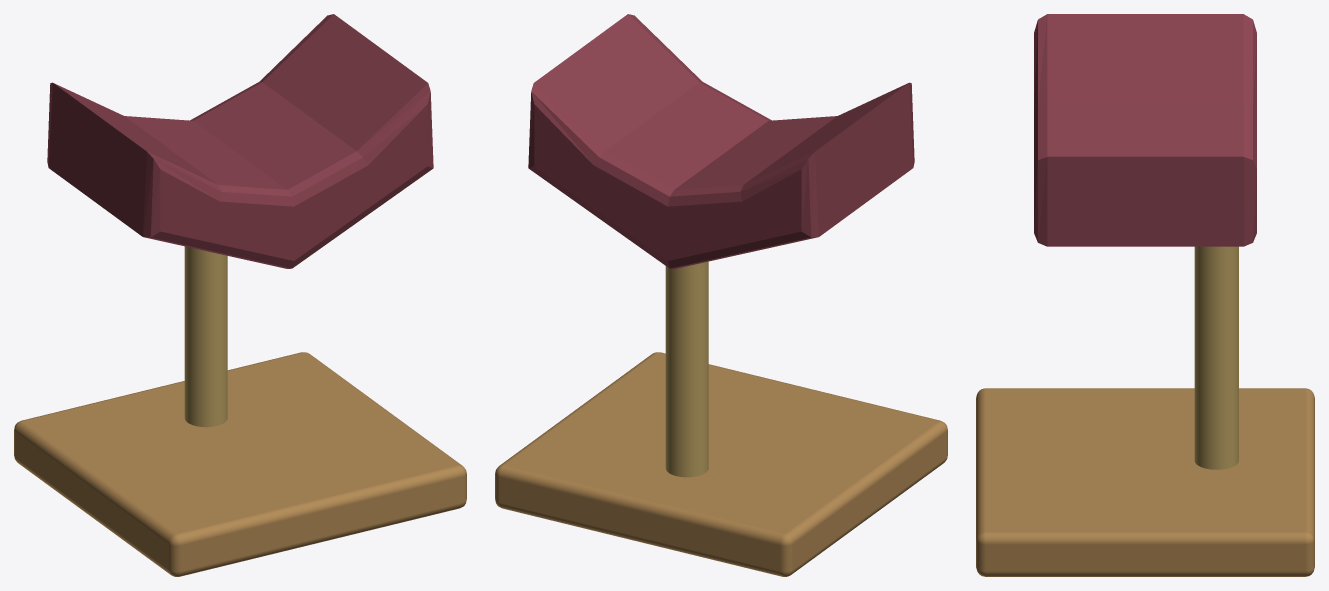
The model's file is abandoned-puppet-theatre-and-prop-vault-puppet-display-aab9e8ba__31087.glb.
3 renders of one model, left to right at view 1: azimuth 30°, elevation 25°; view 2: azimuth 150°, elevation 25°; view 3: azimuth 270°, elevation 25°, orthographic. The views are drawn at different scales.
Parts seen in each view (by area): view 1: puppet-display-cradle; view 2: puppet-display-cradle; view 3: puppet-display-cradle.
Part boxes in pixels (bbox=[...]): puppet-display-cradle: bbox=[14, 14, 466, 576]; puppet-display-cradle: bbox=[495, 14, 947, 576]; puppet-display-cradle: bbox=[976, 14, 1314, 576].
Size of the model in its own units: 0.4 by 0.519 by 0.38.
